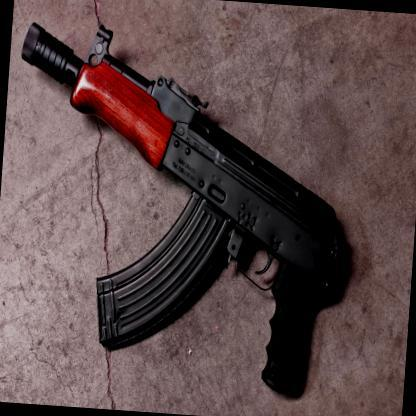rifle: (0, 0, 380, 404)
